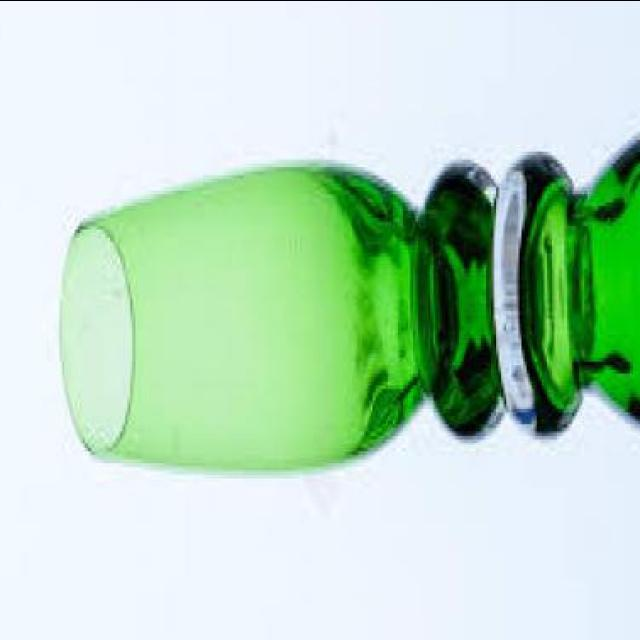kaca: (57, 127, 640, 474)
